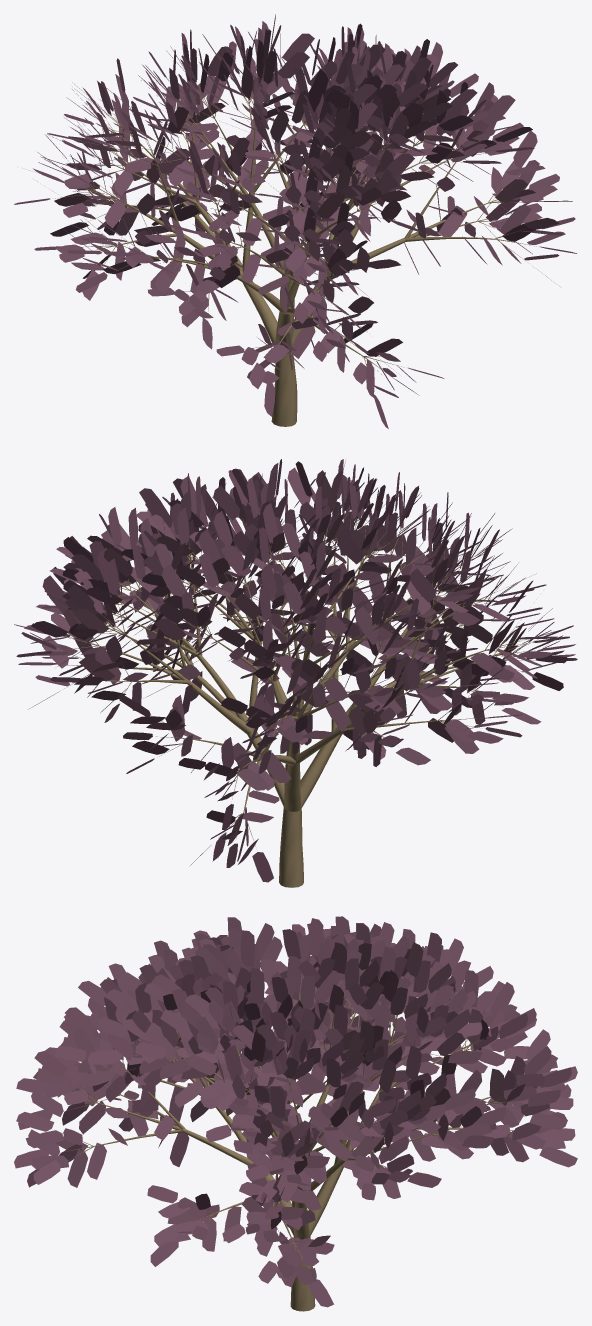
Rendered from sakuratree.fbx.
3 views of the same model, one above another, from view 1: azimuth 30°, elevation 25°; view 2: azimuth 150°, elevation 25°; view 3: azimuth 270°, elevation 25° (orthographic). The views are drawn at different scales.
Parts seen in each view (by area): view 1: city:cherryTree1Leaf; view 2: city:cherryTree1Leaf; view 3: city:cherryTree1Leaf.
Boxes of the visible parts, box(x1,y1,x2,y2) form: city:cherryTree1Leaf: box(14, 14, 576, 428); city:cherryTree1Leaf: box(14, 459, 577, 887); city:cherryTree1Leaf: box(14, 916, 577, 1311).
Size of the model in its own units: 3.63 by 2.71 by 3.76.
